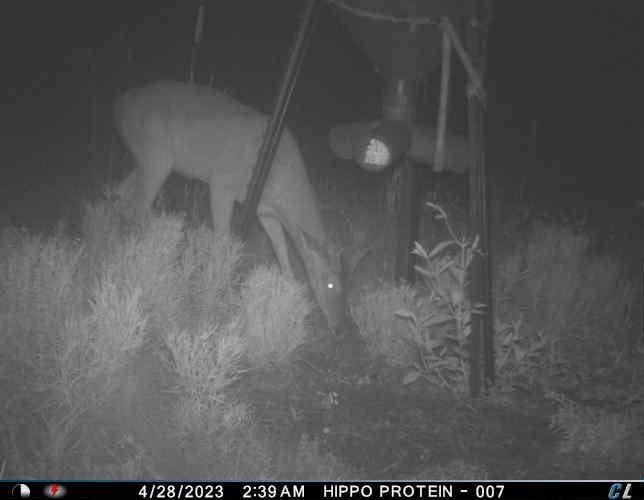Deer: (107, 74, 377, 341)
